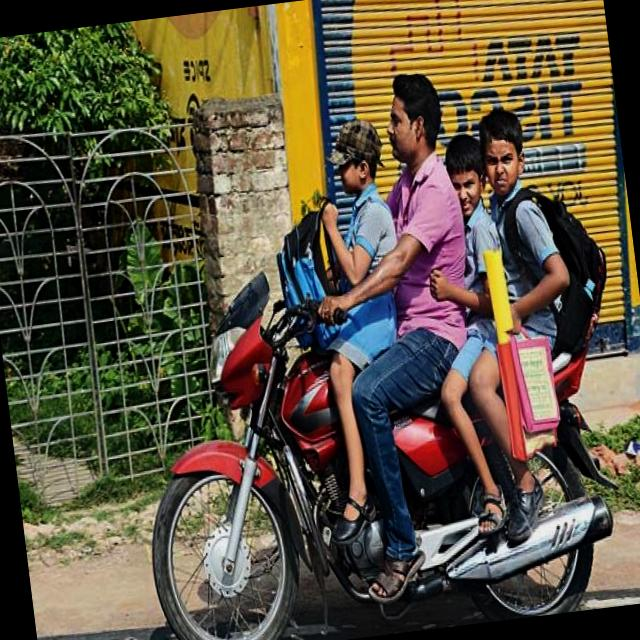motorcycle: (91, 221, 640, 640)
person: (225, 113, 430, 488), (344, 57, 495, 420), (445, 104, 587, 456), (408, 126, 526, 411)
